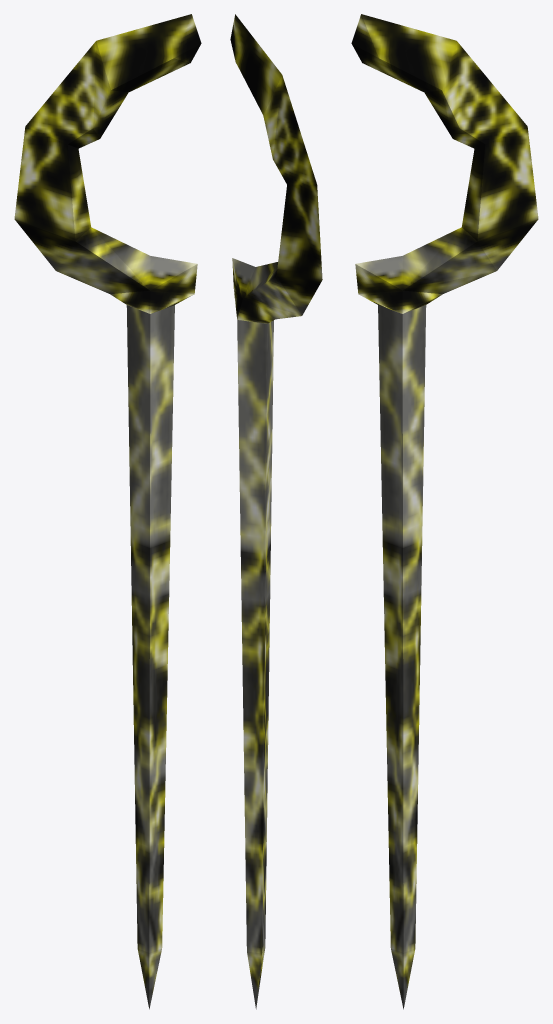
File: wavemaster00_5.obj
3 views of the same model, side by side, from view 1: azimuth 90°, elevation 25°; view 2: azimuth 210°, elevation 25°; view 3: azimuth 270°, elevation 25° (orthographic).
Visible parts, largest first — view 1: wavemaster00_5; view 2: wavemaster00_5; view 3: wavemaster00_5.
Boxes of the visible parts, bbox=[...] form: wavemaster00_5: bbox=[14, 14, 201, 1009]; wavemaster00_5: bbox=[230, 14, 322, 1009]; wavemaster00_5: bbox=[351, 14, 538, 1009].
Size of the model in its own units: 0.055 by 1.39 by 0.2375.
